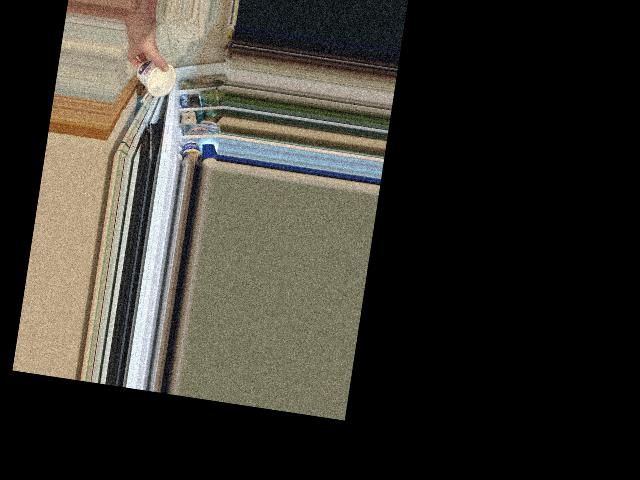cotage: (131, 55, 178, 99)
